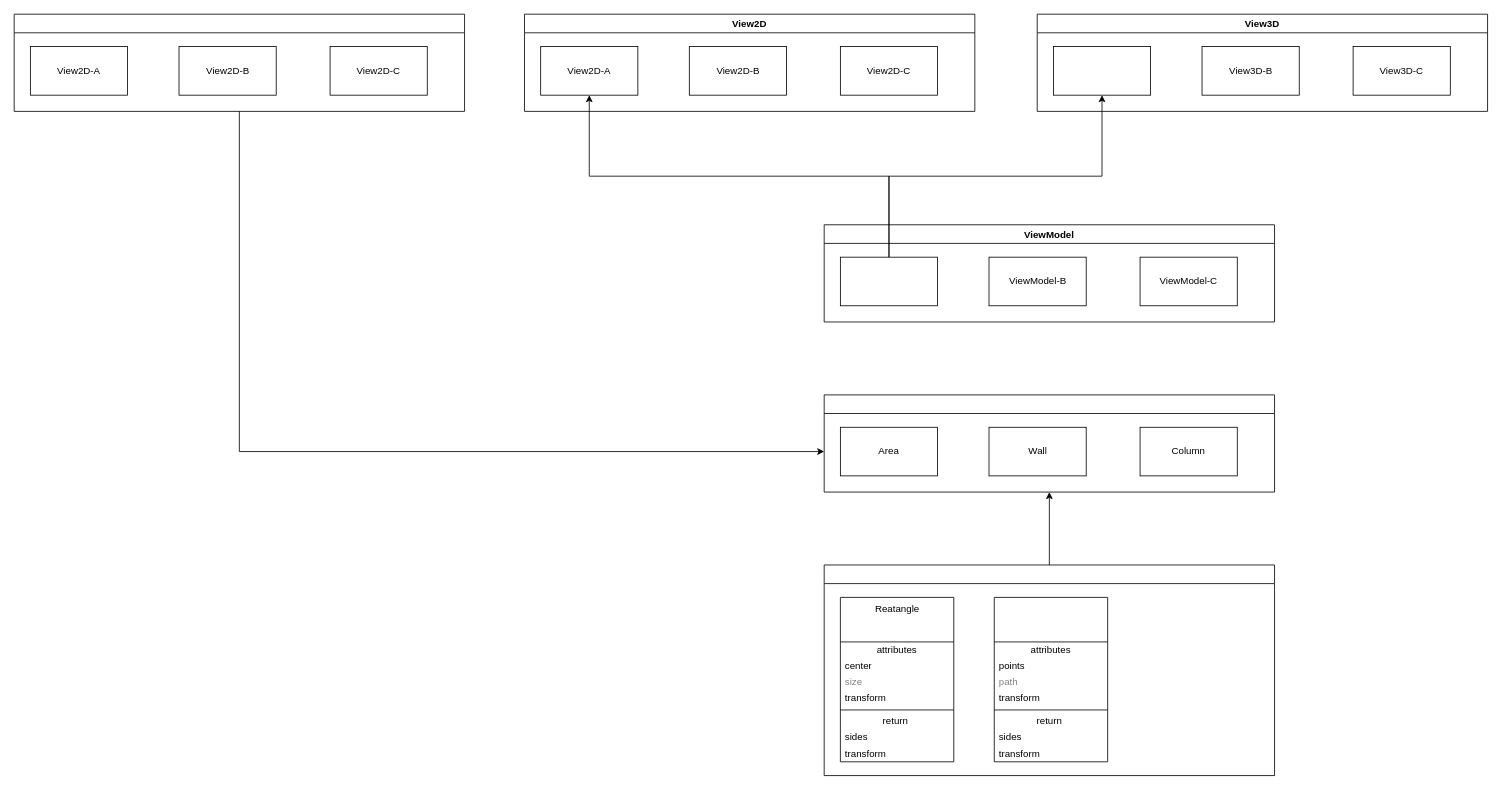
This 1502x790 diagram has some shape labels left out. Here are the shapes that lost their labels. From the top down, the box of each, then its label:
(13, 13, 465, 111): Algorithm
(1053, 46, 1151, 95): View3D-A
(840, 256, 938, 306): ViewModel-A
(823, 394, 1275, 492): DataModel
(823, 564, 1275, 776): Primitives
(993, 597, 1108, 762): Polygon
